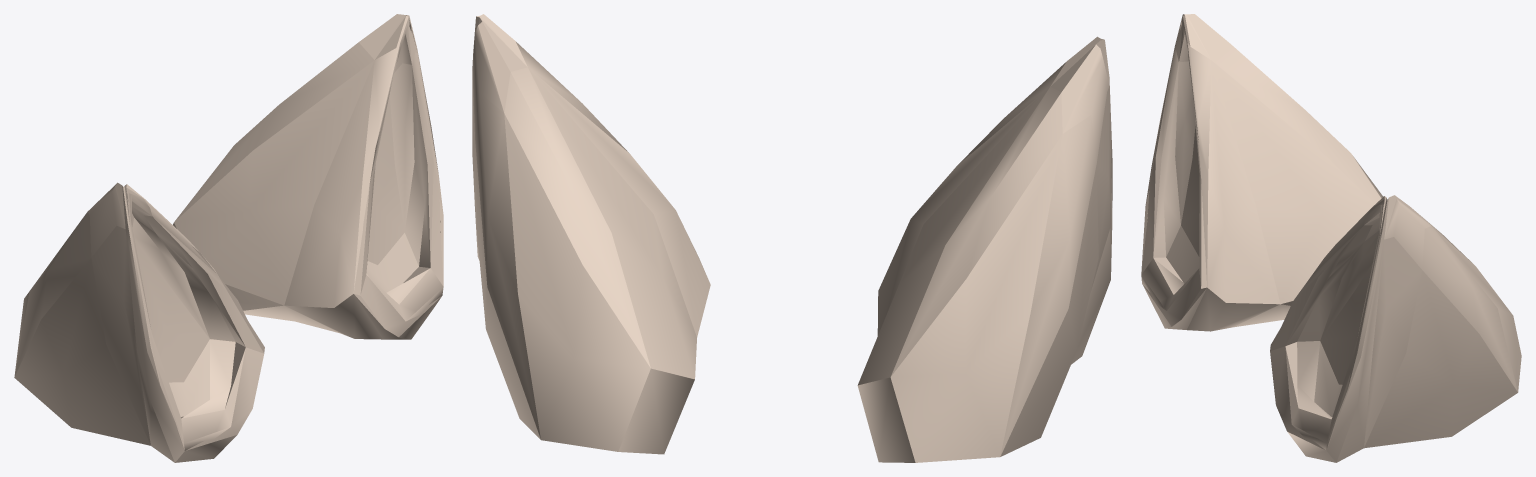
3 renders of one model, left to right at view 1: azimuth 30°, elevation 25°; view 2: azimuth 150°, elevation 25°; view 3: azimuth 270°, elevation 25°, orthographic. The views are drawn at different scales.
Visible parts, largest first — view 1: 421; view 2: 421; view 3: 421.
Boxes of the visible parts, box(x1,y1,x2,y2) form: 421: box(14, 14, 443, 462); 421: box(472, 14, 1112, 462); 421: box(1141, 14, 1521, 462).
Bounding box in the file's own units: 80.28 × 63.02 × 52.02.
